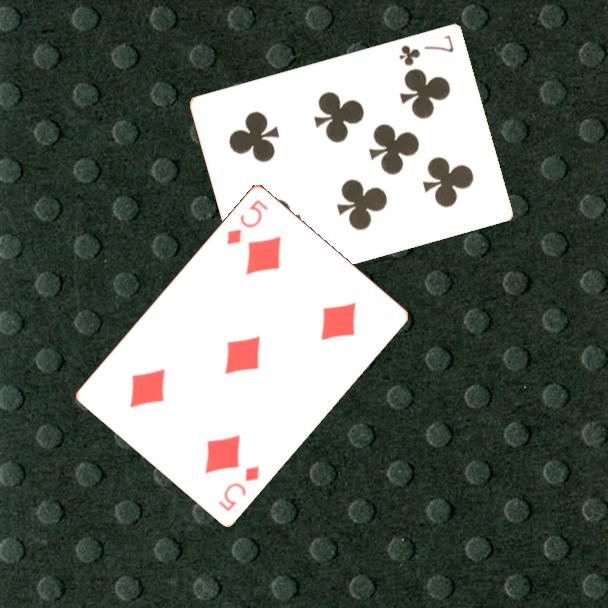c07: (396, 31, 457, 68)
d05: (223, 195, 271, 248), (214, 462, 262, 514)
